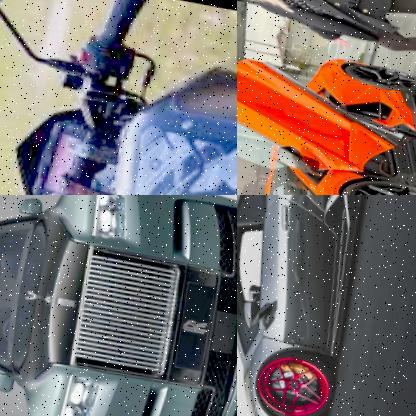car: (0, 195, 237, 416), (237, 14, 416, 195), (237, 195, 377, 416)
